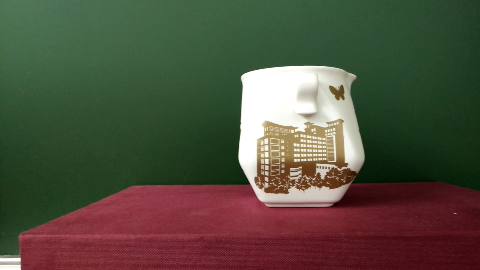butterfly: (316, 71, 354, 109)
lenwen: (264, 133, 341, 189)
